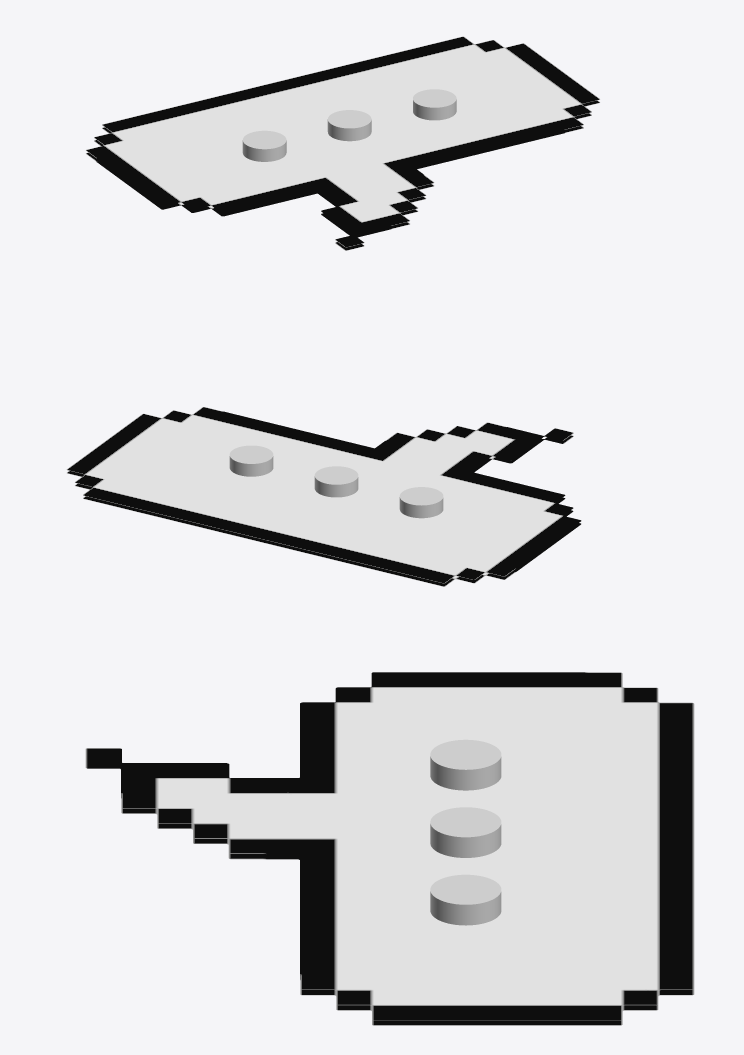
File: waitingText.fbx
The picture shows the model from 3 angles, top to bottom: view 1: azimuth 30°, elevation 25°; view 2: azimuth 150°, elevation 25°; view 3: azimuth 270°, elevation 25°; orthographic projection. The views are drawn at different scales.
Visible parts, largest first — view 1: pixel-speech-bubble, Text.001; view 2: pixel-speech-bubble, Text.001; view 3: pixel-speech-bubble, Text.001.
Part boxes in pixels (box(x1,y1,x2,y2)): pixel-speech-bubble: box(86, 36, 599, 250); Text.001: box(242, 89, 456, 161); pixel-speech-bubble: box(66, 407, 581, 586); Text.001: box(229, 445, 443, 518); pixel-speech-bubble: box(85, 672, 694, 1025); Text.001: box(430, 739, 501, 925).
Size of the model in its own units: 3.12 by 0.1001 by 2.4.
